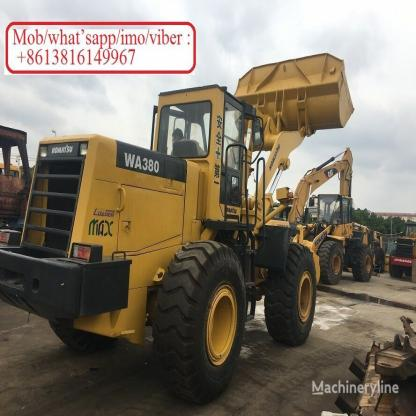bull_dozer/loader/grader: (15, 52, 367, 396)
